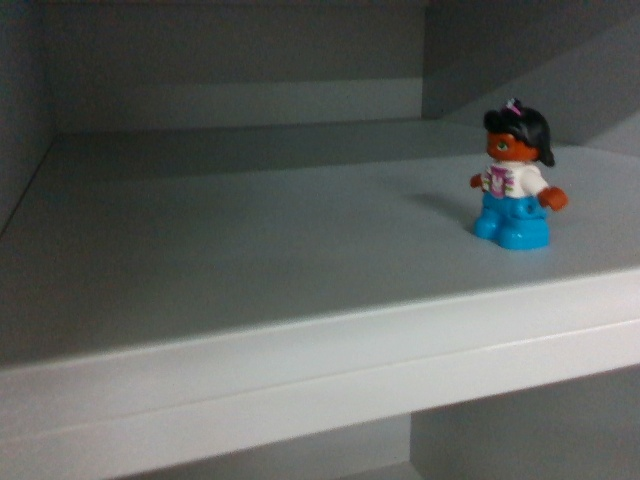people: (468, 105, 571, 255)
